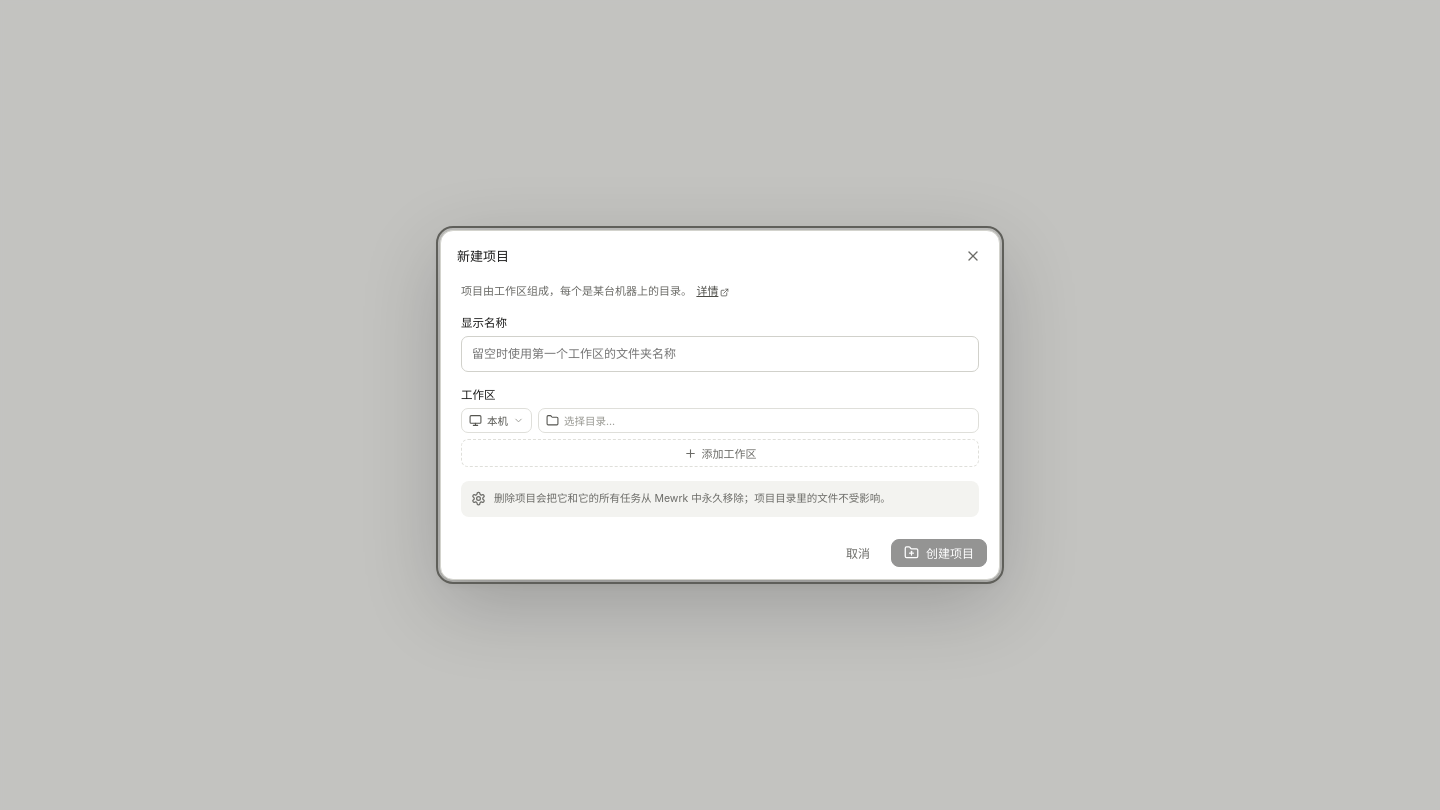
ProjectDialog › starts with one empty local row and adds and removes rows
Expected: the dialog "新建项目" is shown, [440,230,1000,580]
Expected: the field with placeholder "留空时使用第一个工作区的文件夹名称" is shown, [461,336,979,372]
Click the button "添加工作区" at [720, 453], box [461,439,979,467]
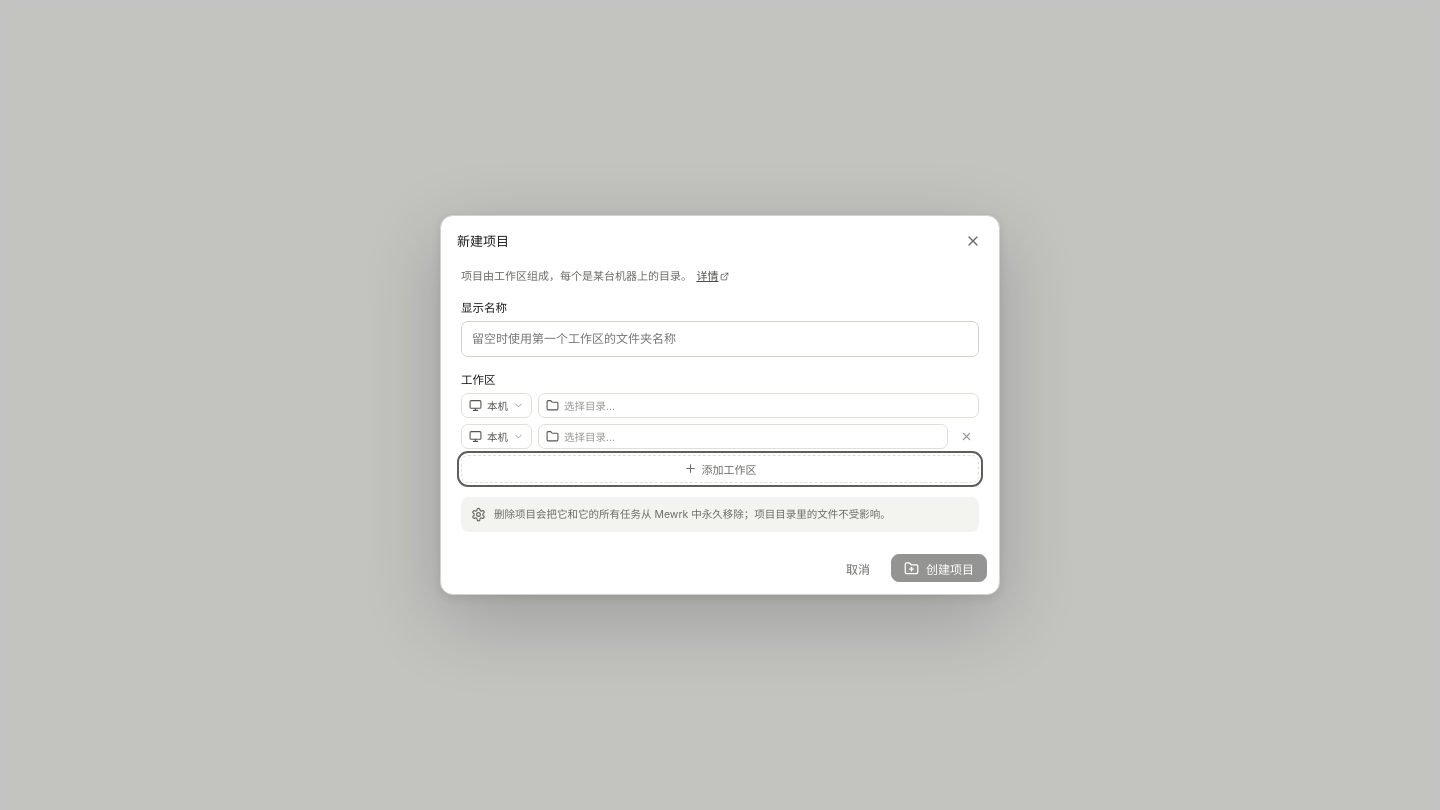
Click the button "添加工作区" at [720, 469], box [461,455,979,483]
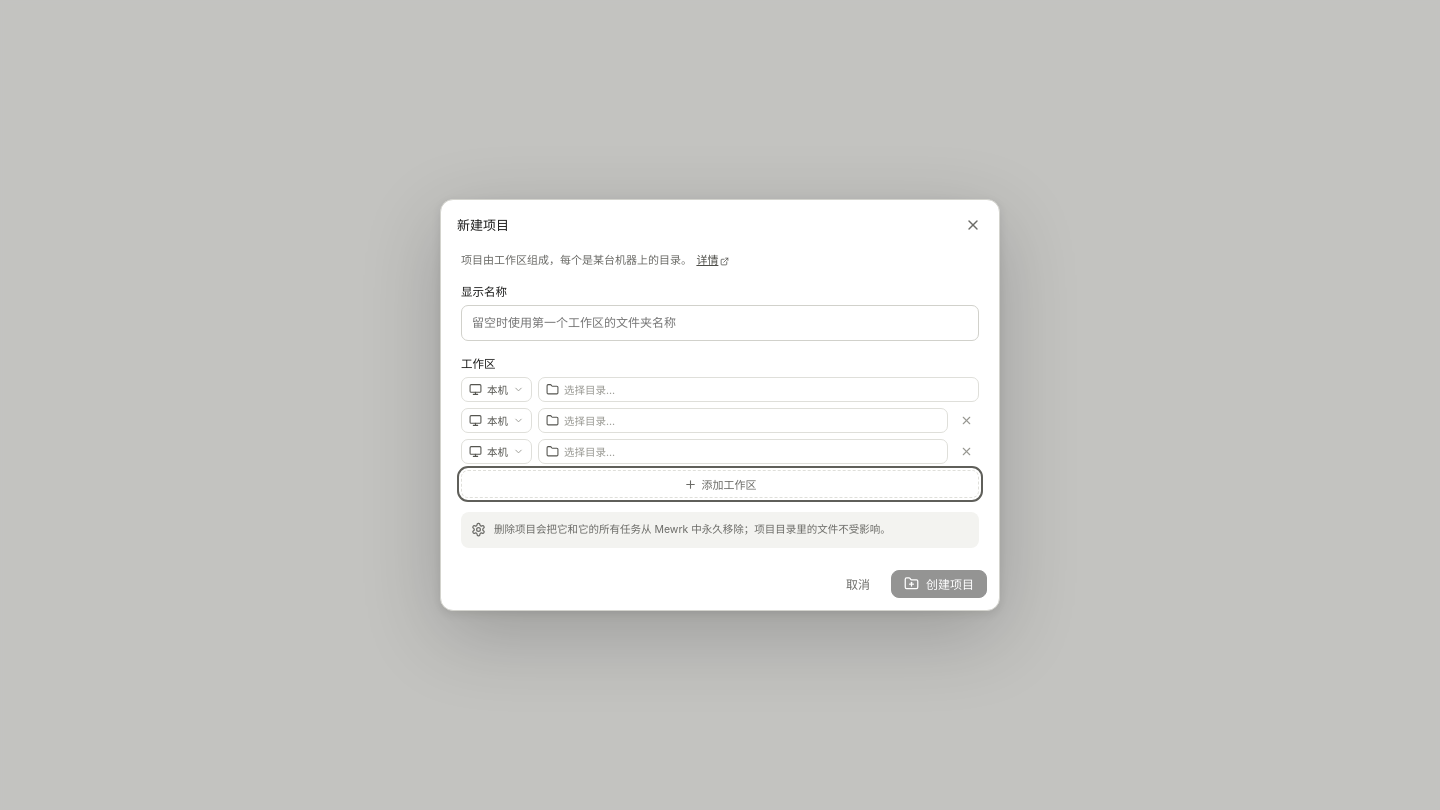
Expected: the 1st button named "移除工作区" is shown
Expected: the button with aria-label "工作区的机器：" reads "本机", [461,439,532,464]
Expected: the number of buttons named "移除工作区" is 2
Click the 1st button named "移除工作区" at [966, 421], box [954,408,979,433]
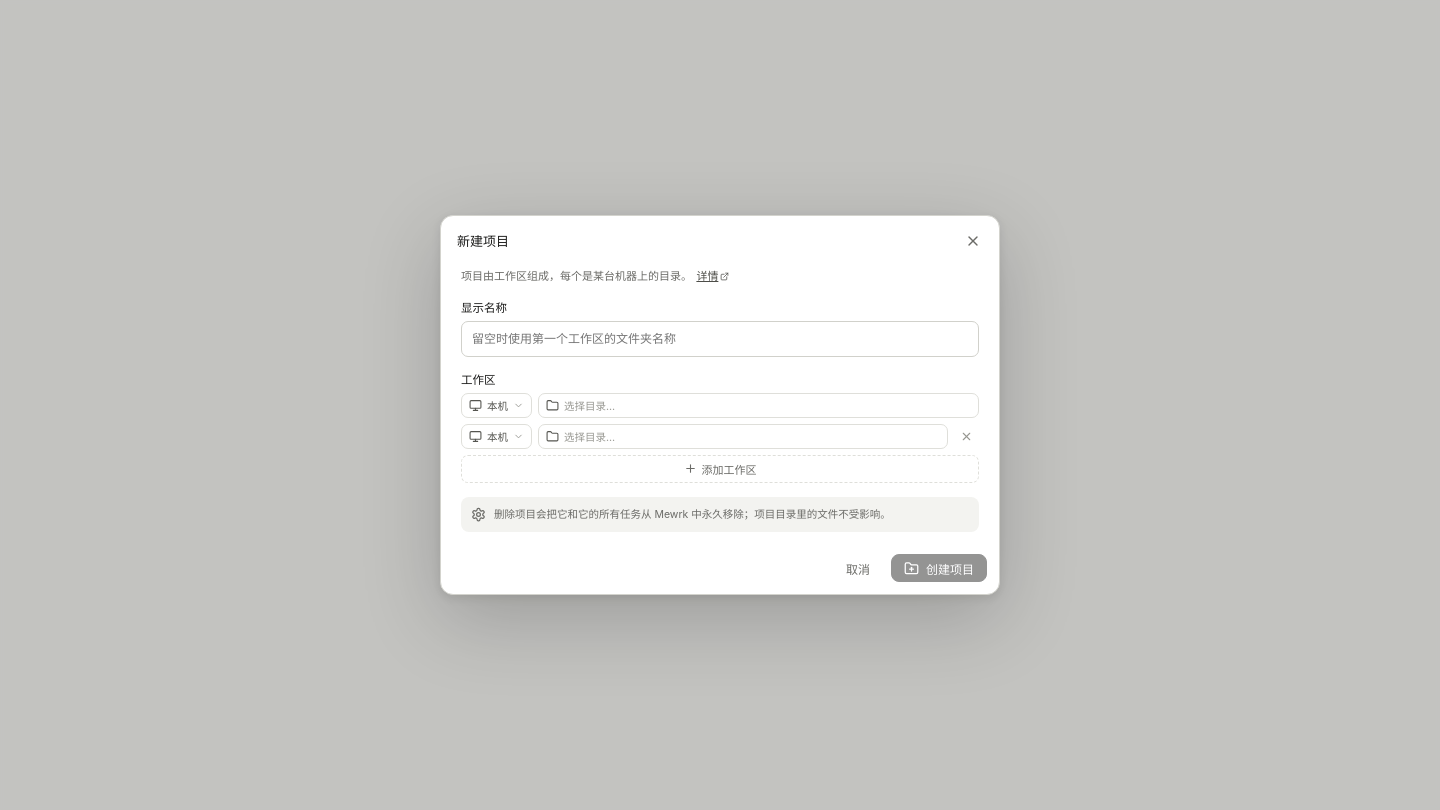
Expected: the number of buttons named "移除工作区" is 1, [954,424,979,449]
